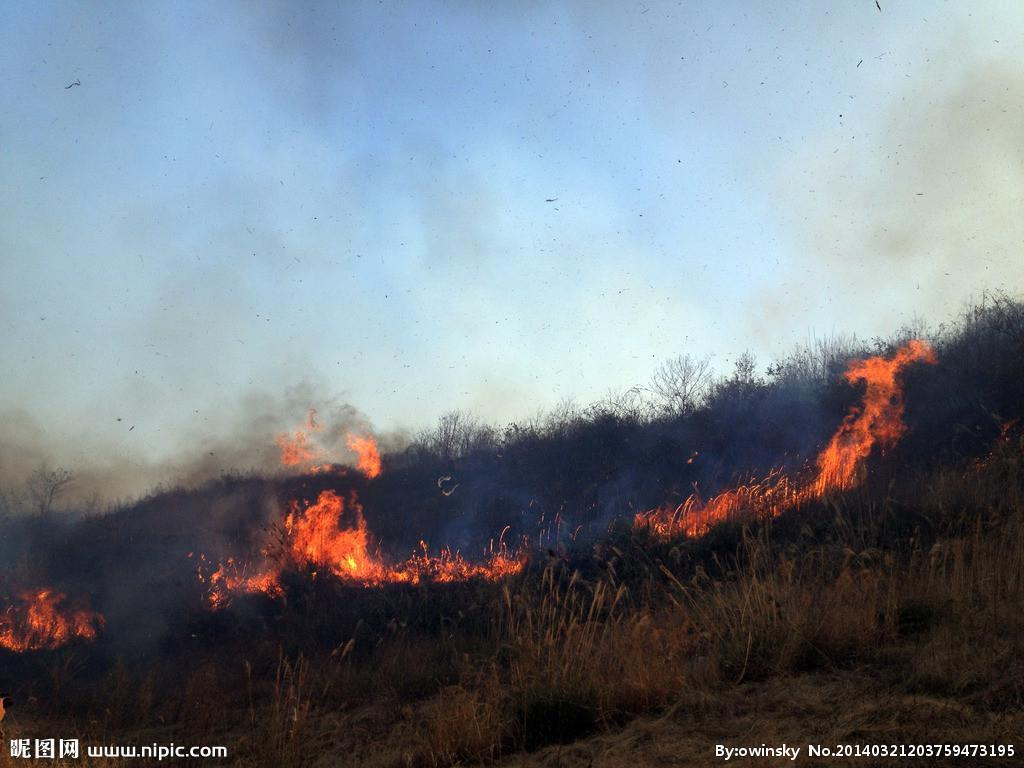fire: (188, 397, 542, 616), (802, 340, 915, 477), (4, 566, 127, 653), (615, 473, 833, 521)
